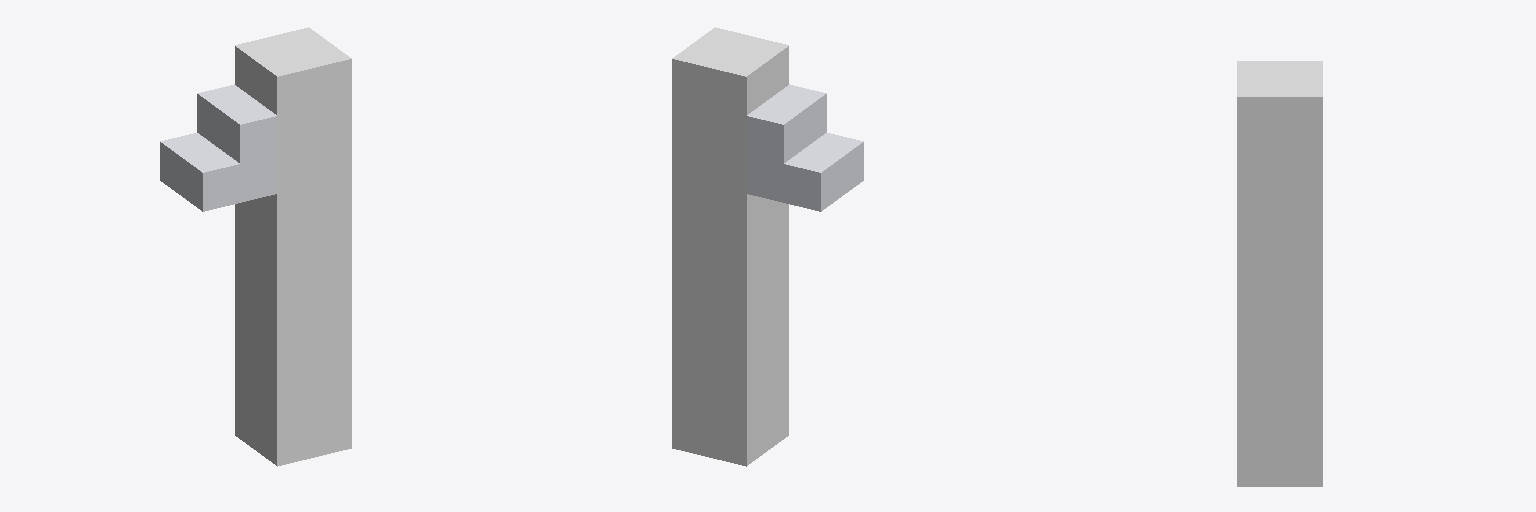
3 renders of one model, left to right at view 1: azimuth 30°, elevation 25°; view 2: azimuth 150°, elevation 25°; view 3: azimuth 270°, elevation 25°, orthographic.
Parts seen in each view (by area): view 1: Matrix_9; view 2: Matrix_9; view 3: Matrix_9.
Part boxes in pixels (bbox=[...]): Matrix_9: bbox=[160, 27, 351, 466]; Matrix_9: bbox=[672, 27, 863, 466]; Matrix_9: bbox=[1237, 61, 1322, 486].
Size of the model in its own units: 4 by 10 by 2.
1 materials, 1 textured.